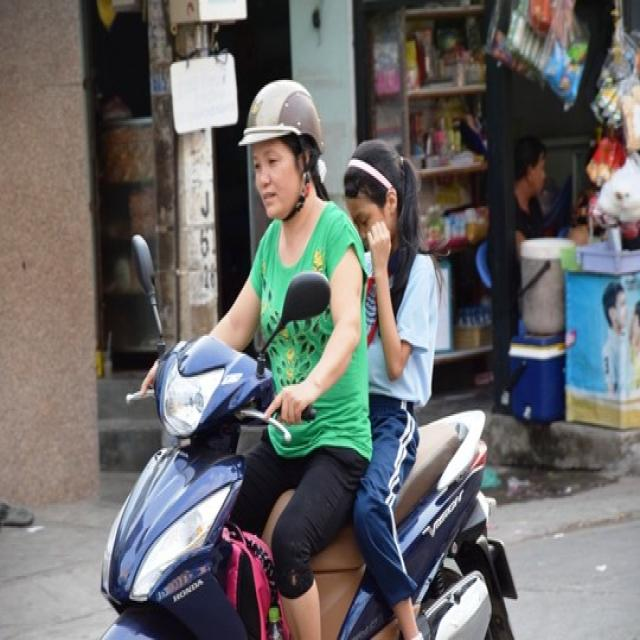helmet: (237, 78, 323, 154)
